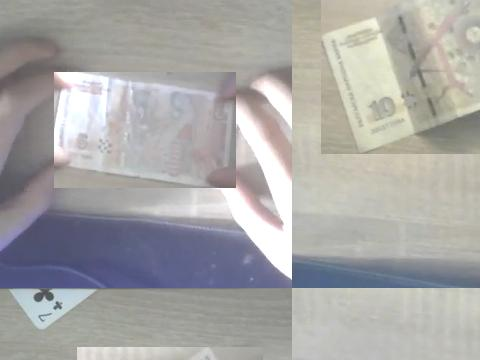5leva: (54, 72, 236, 188)
